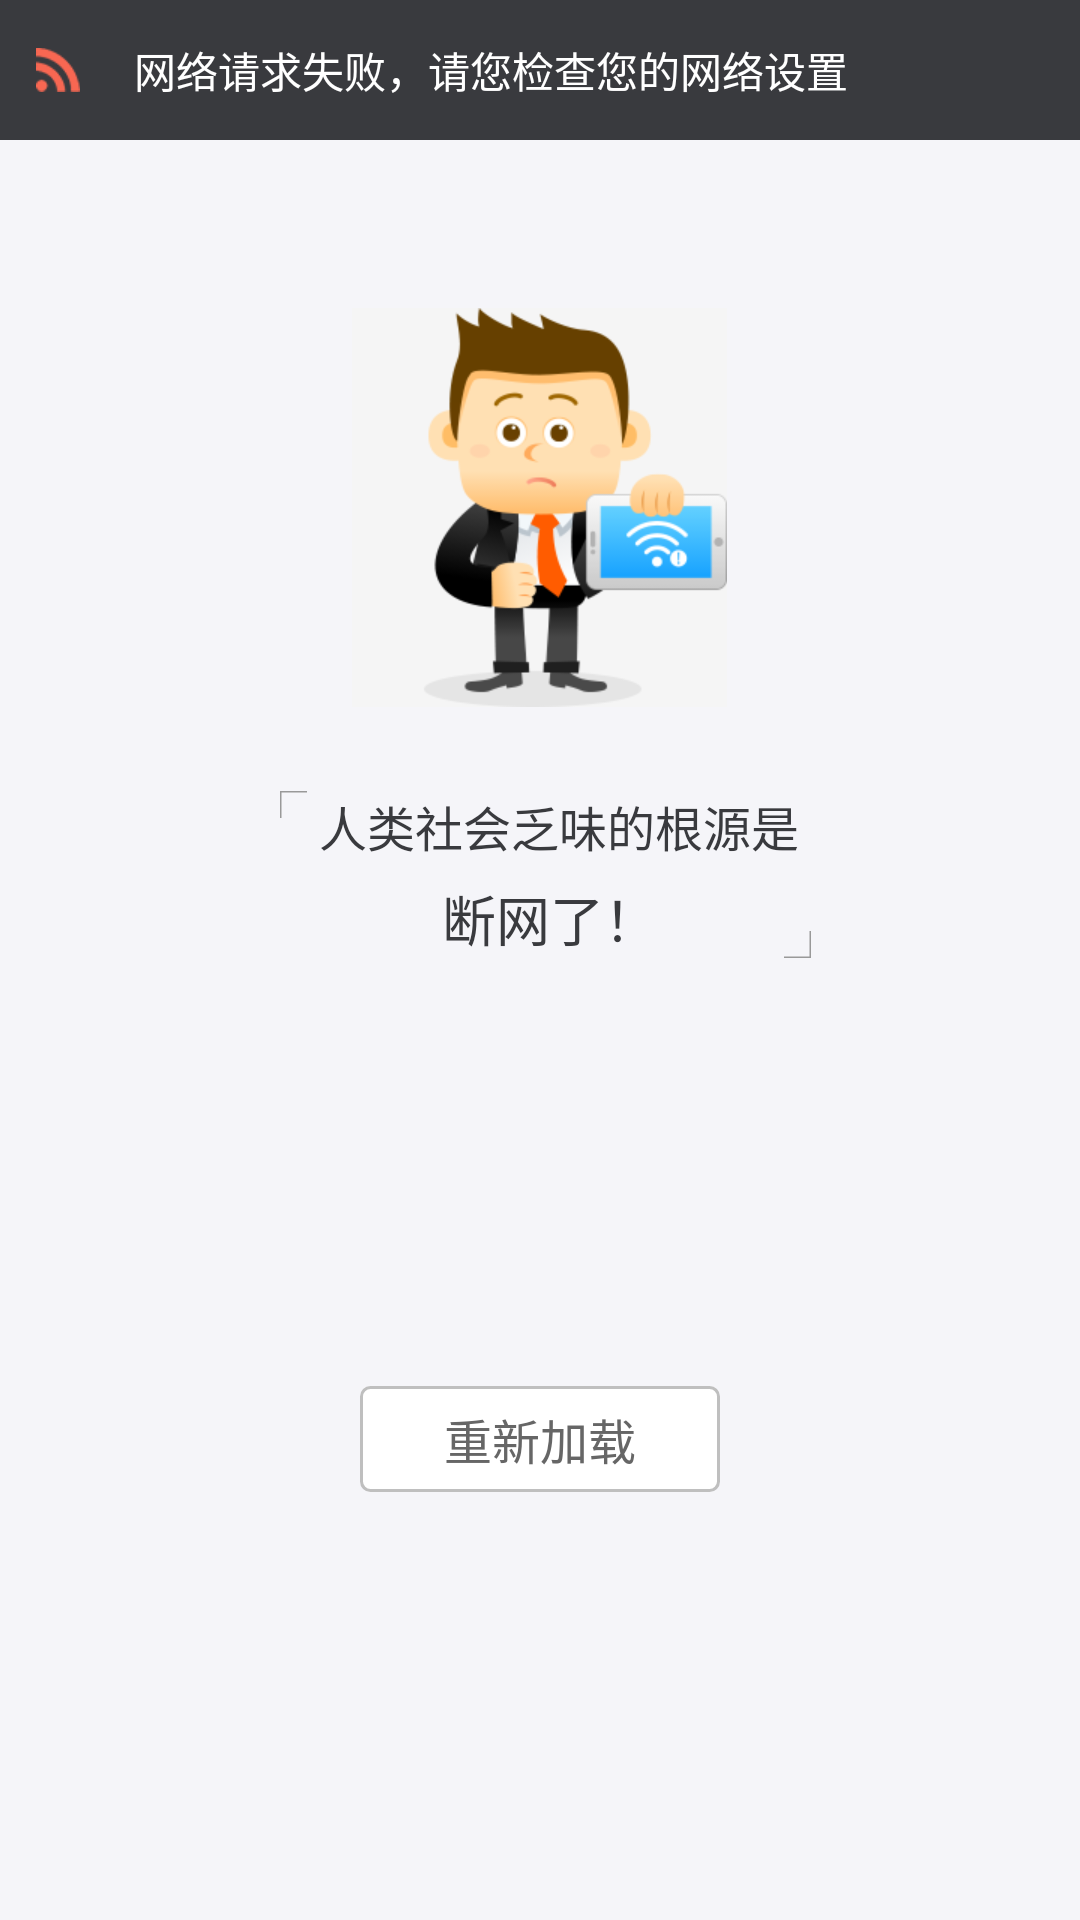

Icons on this 1080*1920 Android screen, each with the point to tap as point (x, y):
web hint left: point (293, 804)
web hint right: point (797, 944)
web signal: point (58, 70)
